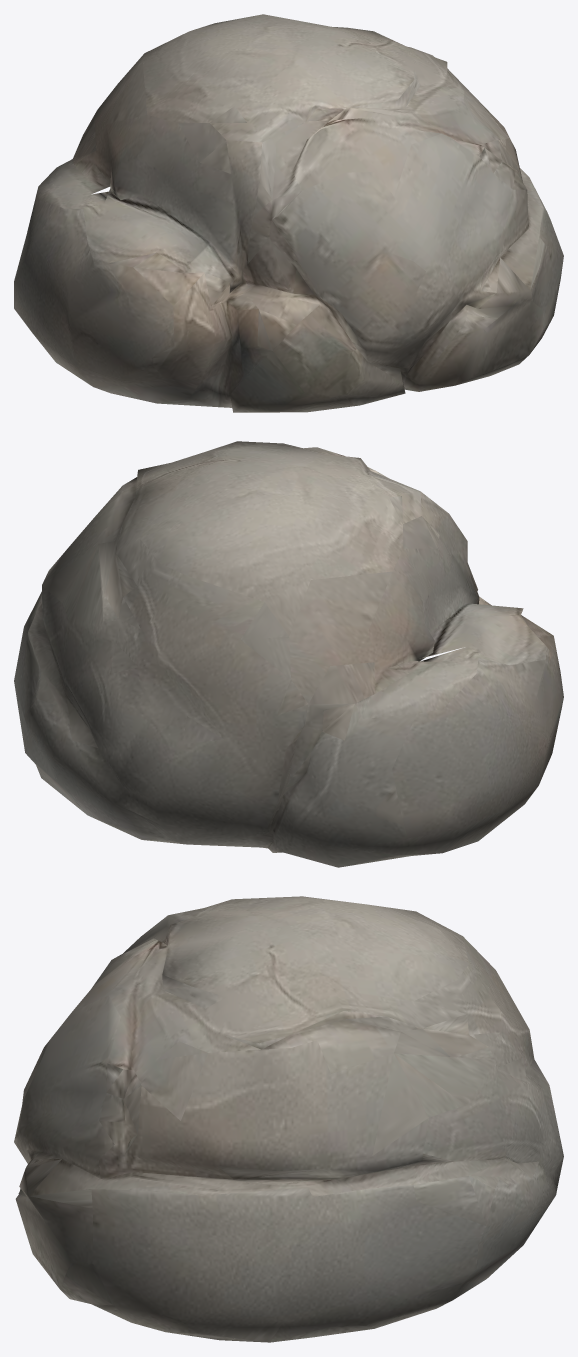
File: rock_large.gltf
3 views of the same model, one above another, from view 1: azimuth 30°, elevation 25°; view 2: azimuth 150°, elevation 25°; view 3: azimuth 270°, elevation 25° (orthographic). The views are drawn at different scales.
Parts seen in each view (by area): view 1: rock_large; view 2: rock_large; view 3: rock_large.
Part boxes in pixels (box(x1,y1,x2,y2)): rock_large: box(14, 14, 563, 412); rock_large: box(14, 441, 563, 867); rock_large: box(14, 896, 563, 1342).
Size of the model in its own units: 1.6 by 0.914 by 1.45.
1 material, 1 textured.
